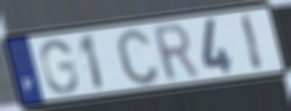1: (76, 31, 105, 93)
4: (201, 16, 238, 77)
C: (113, 26, 162, 87)
G: (38, 37, 80, 95)
I: (239, 11, 266, 73)
R: (150, 21, 202, 84)
